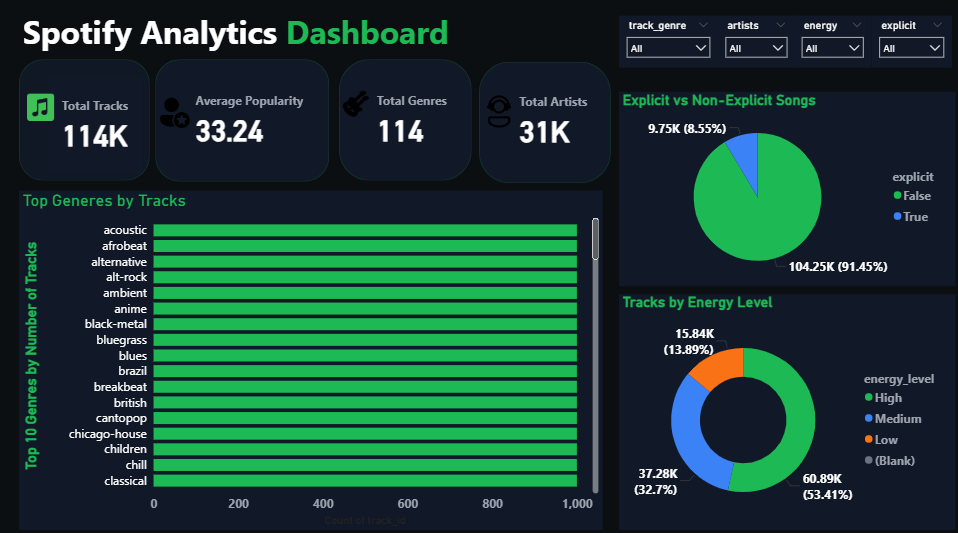

The page's visual inventory and layout, read from the dashboard file:
{"tool":"powerbi","page":{"name":"Dashboard 1","canvas":[1280,720],"ordinal":0},"visuals":[{"type":"clusteredBarChart","title":"Top Generes by Tracks","fields":{"Category":["public spotify_tracks.track_genre"],"Y":["CountNonNull(public spotify_tracks.track_id)"]},"box":[27.4,256.6,778,452.8],"z":0},{"type":"pieChart","title":"Explicit vs Non-Explicit Songs","fields":{"Category":["public spotify_tracks.explicit"],"Y":["CountNonNull(public spotify_tracks.track_id)"]},"box":[826.1,124.9,448.7,259.3],"z":1000},{"type":"donutChart","title":"Tracks by Energy Level","fields":{"Category":["public spotify_tracks.energy_level"],"Y":["CountNonNull(public spotify_tracks.track_id)"]},"box":[826.1,395.2,448.7,314.2],"z":2000},{"type":"shape","box":[27.4,82.3,174.3,161.9],"z":3000},{"type":"cardVisual","fields":{"Data":["public spotify_tracks.Total Tracks"]},"box":[67.2,104.3,123.5,129],"z":4000},{"type":"shape","box":[208.6,81,231.9,163.3],"z":5000},{"type":"cardVisual","fields":{"Data":["public spotify_tracks.Average Popularity"]},"box":[244.3,93.3,182.5,138.6],"z":6000},{"type":"shape","box":[452.8,82.3,177,161.9],"z":7000},{"type":"cardVisual","fields":{"Data":["public spotify_tracks.Total Genres"]},"box":[487.1,96.1,133.1,131.7],"z":8000},{"type":"shape","box":[639.5,85.1,175.6,161.9],"z":9000},{"type":"cardVisual","fields":{"Data":["public spotify_tracks.Total Artists"]},"box":[676.5,101.5,129,123.5],"z":10000},{"type":"image","box":[452.8,118,45.3,45.3],"z":11000},{"type":"image","box":[205.8,124.9,56.3,54.9],"z":12000},{"type":"image","box":[639.5,124.9,53.5,54.9],"z":13000},{"type":"image","box":[27.4,122.1,57.6,48],"z":14000},{"type":"textbox","box":[27.4,9.6,753.3,71.4],"z":15000},{"type":"slicer","fields":{"Values":["public spotify_tracks.track_genre"]},"box":[826.1,23.3,131.7,70],"z":16000},{"type":"slicer","fields":{"Values":["public spotify_tracks.artists"]},"box":[957.8,23.3,102.9,70],"z":17000},{"type":"slicer","fields":{"Values":["public spotify_tracks.energy"]},"box":[1060.7,23.3,102.9,70],"z":18000},{"type":"slicer","fields":{"Values":["public spotify_tracks.explicit"]},"box":[1163.6,23.3,107,70],"z":19000}]}

Visuals, with their boxes in screenshot pixels (x1, y1, x2, y2), scaled from the page's 1280x720 canvas onto the 958x533 screenshot:
"Top Generes by Tracks" clusteredBarChart: {"left": 21, "top": 190, "right": 603, "bottom": 525}
"Explicit vs Non-Explicit Songs" pieChart: {"left": 618, "top": 92, "right": 954, "bottom": 284}
"Tracks by Energy Level" donutChart: {"left": 618, "top": 293, "right": 954, "bottom": 525}
shape: {"left": 21, "top": 61, "right": 151, "bottom": 181}
cardVisual - public spotify_tracks.Total Tracks: {"left": 50, "top": 77, "right": 143, "bottom": 173}
shape: {"left": 156, "top": 60, "right": 330, "bottom": 181}
cardVisual - public spotify_tracks.Average Popularity: {"left": 183, "top": 69, "right": 319, "bottom": 172}
shape: {"left": 339, "top": 61, "right": 471, "bottom": 181}
cardVisual - public spotify_tracks.Total Genres: {"left": 365, "top": 71, "right": 464, "bottom": 169}
shape: {"left": 479, "top": 63, "right": 610, "bottom": 183}
cardVisual - public spotify_tracks.Total Artists: {"left": 506, "top": 75, "right": 603, "bottom": 167}
image: {"left": 339, "top": 87, "right": 373, "bottom": 121}
image: {"left": 154, "top": 92, "right": 196, "bottom": 133}
image: {"left": 479, "top": 92, "right": 519, "bottom": 133}
image: {"left": 21, "top": 90, "right": 64, "bottom": 126}
textbox: {"left": 21, "top": 7, "right": 584, "bottom": 60}
slicer - public spotify_tracks.track_genre: {"left": 618, "top": 17, "right": 717, "bottom": 69}
slicer - public spotify_tracks.artists: {"left": 717, "top": 17, "right": 794, "bottom": 69}
slicer - public spotify_tracks.energy: {"left": 794, "top": 17, "right": 871, "bottom": 69}
slicer - public spotify_tracks.explicit: {"left": 871, "top": 17, "right": 951, "bottom": 69}
